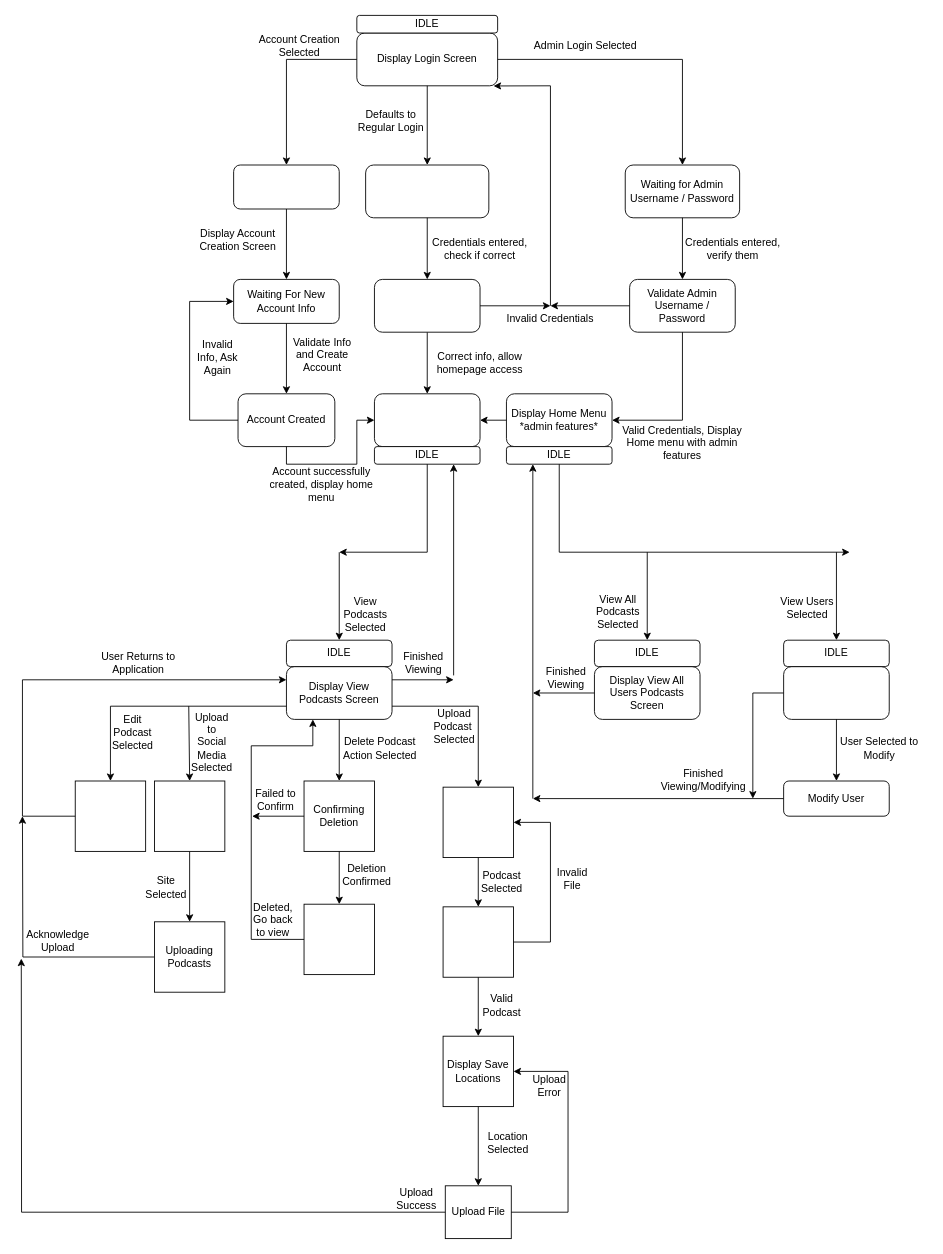
The diagram is 943 pixels wide and 1254 high, and some of its shapes have lost their labels. The box of each missing label's shape, as (x1, y1, x2, y2) in pixels:
Delete Podcast: (303, 903, 374, 975)
Display Create Account: (233, 164, 339, 209)
Display Home Menu: (374, 393, 480, 447)
Display Select Podcast Screen: (442, 786, 513, 858)
Display Social Media Sites: (154, 780, 225, 851)
Display Users: (783, 666, 889, 719)
Redirecting to External Editing Application: (74, 780, 146, 851)
Vaildating Podcast: (442, 906, 513, 977)
Validate Username / Password: (374, 279, 480, 332)
Waiting for Username / Password: (365, 164, 489, 218)
